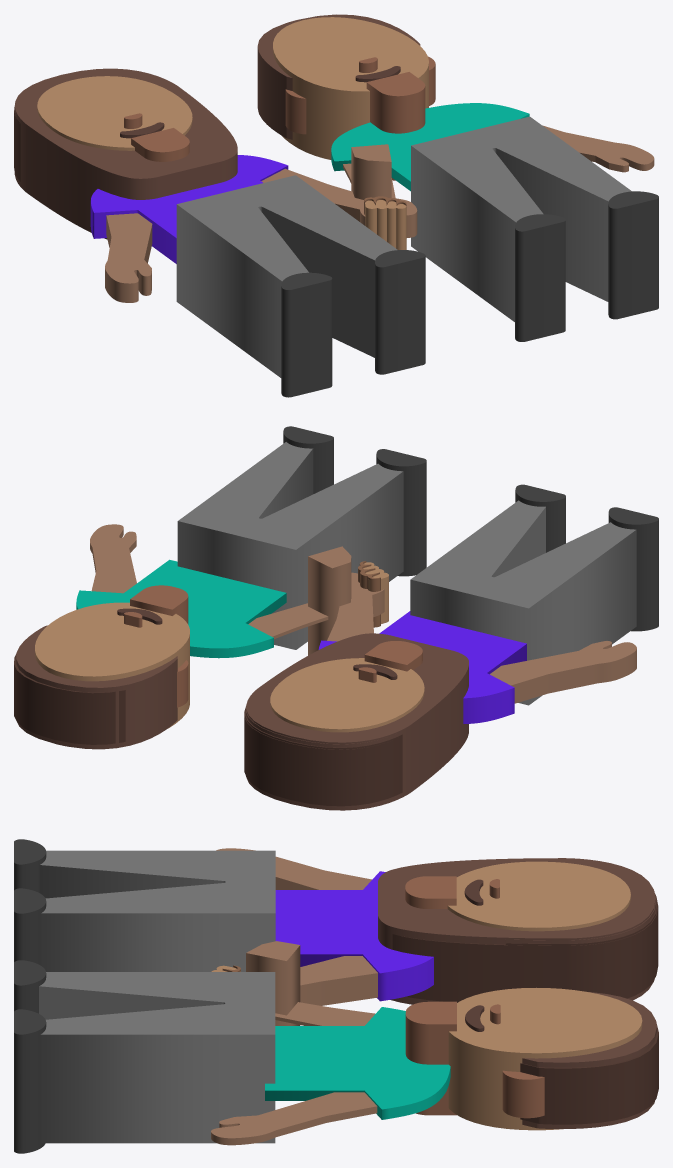
File: emoji_u1f46b_1f3fd.glb
3 renders of one model, top to bottom at view 1: azimuth 30°, elevation 25°; view 2: azimuth 150°, elevation 25°; view 3: azimuth 270°, elevation 25°, orthographic. The views are drawn at different scales.
Parts seen in each view (by area): view 1: emoji_u1f46b_1f3fd; view 2: emoji_u1f46b_1f3fd; view 3: emoji_u1f46b_1f3fd.
Part boxes in pixels (<box>): emoji_u1f46b_1f3fd: <box>14,14,658,397</box>; emoji_u1f46b_1f3fd: <box>14,426,658,810</box>; emoji_u1f46b_1f3fd: <box>14,839,658,1153</box>.
Bounding box in the file's own units: 0.0346 × 0.0068 × 0.0334.
